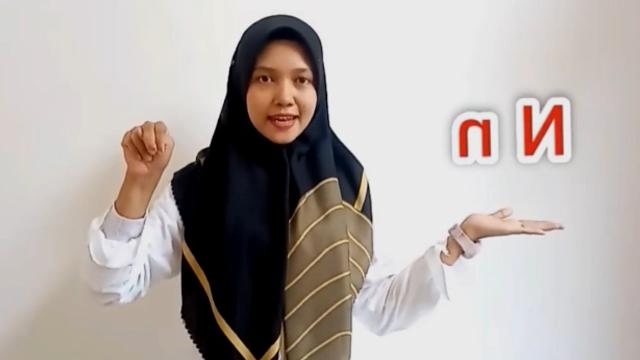N: (117, 120, 177, 178)
